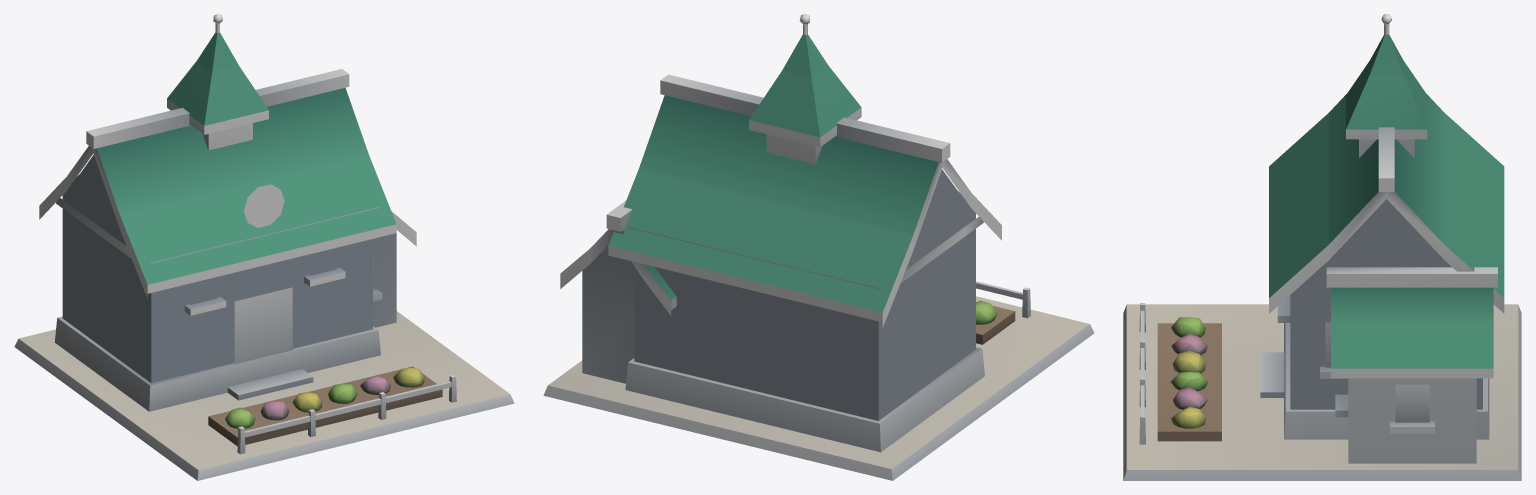
Rendered from hospital_t4.glb.
3 views of the same model, side by side, from view 1: azimuth 30°, elevation 25°; view 2: azimuth 150°, elevation 25°; view 3: azimuth 270°, elevation 25° (orthographic). The views are drawn at different scales.
Visible parts, largest first — view 1: hospital_t4; view 2: hospital_t4; view 3: hospital_t4.
Part boxes in pixels (x1,y1,x2,y2): hospital_t4: (14,14,514,480); hospital_t4: (543,14,1094,480); hospital_t4: (1123,14,1521,480).
Size of the model in its own units: 1.86 by 1.93 by 1.86.
